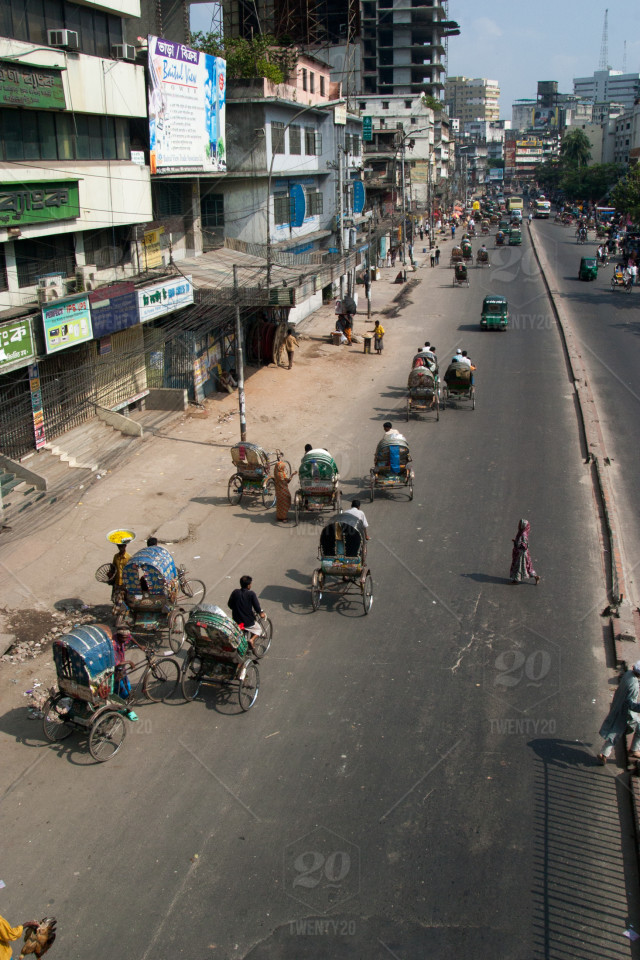Rickshaw: (42, 603, 171, 752), (165, 594, 257, 711), (317, 505, 378, 623), (126, 539, 191, 633), (293, 443, 351, 515), (374, 422, 424, 499), (439, 346, 499, 408), (226, 431, 279, 493), (407, 350, 438, 414)
